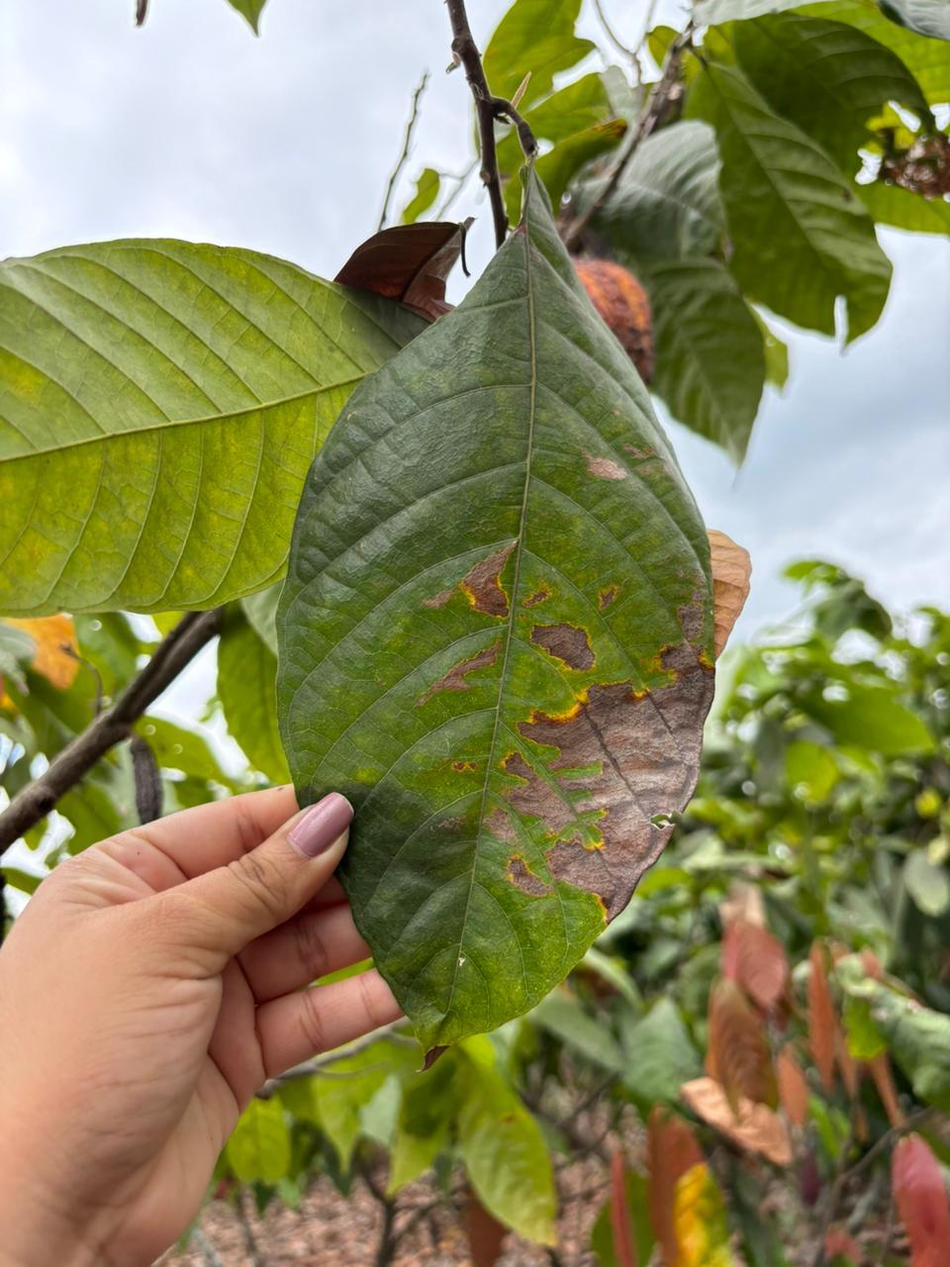deficiencia_potasio: (277, 168, 712, 1062)
